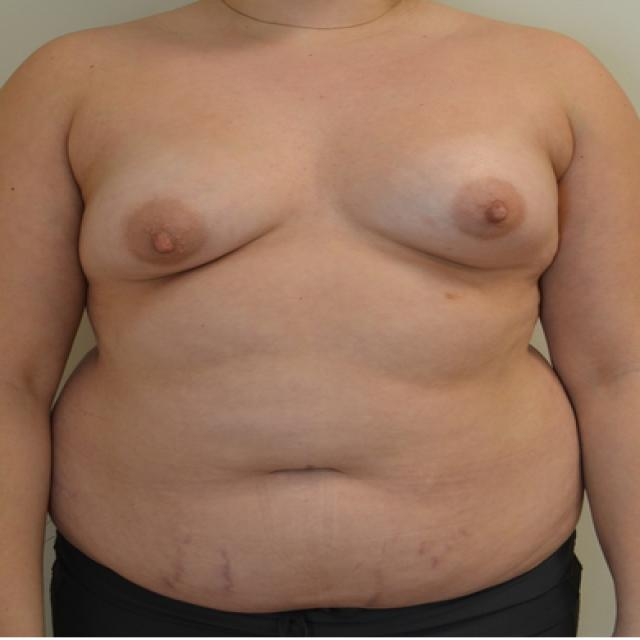Seno ileso: (72, 145, 318, 294), (337, 142, 566, 284)
